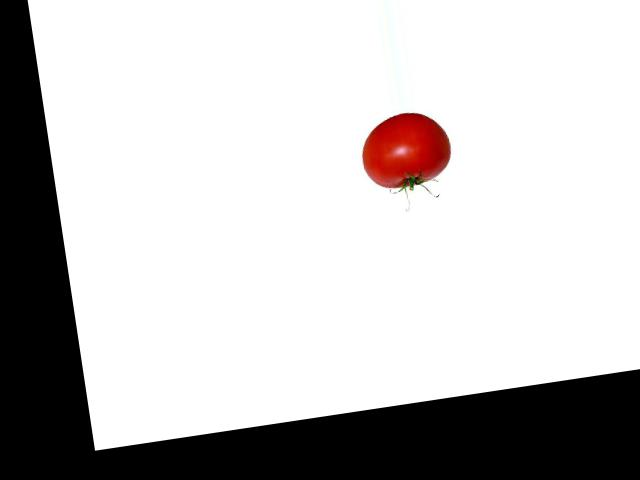tomato: (357, 107, 454, 192)
